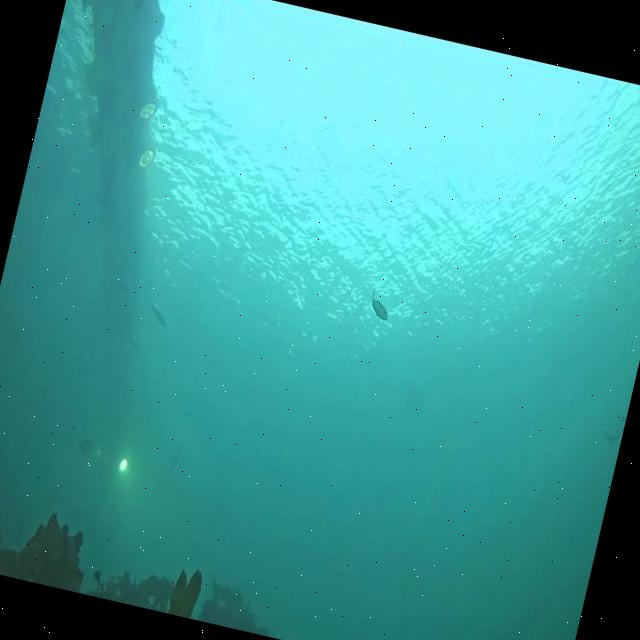fish: (366, 288, 394, 321), (147, 304, 169, 328), (75, 435, 95, 458), (169, 443, 182, 471)
